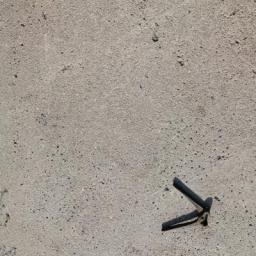FOD: (163, 178, 216, 239)
